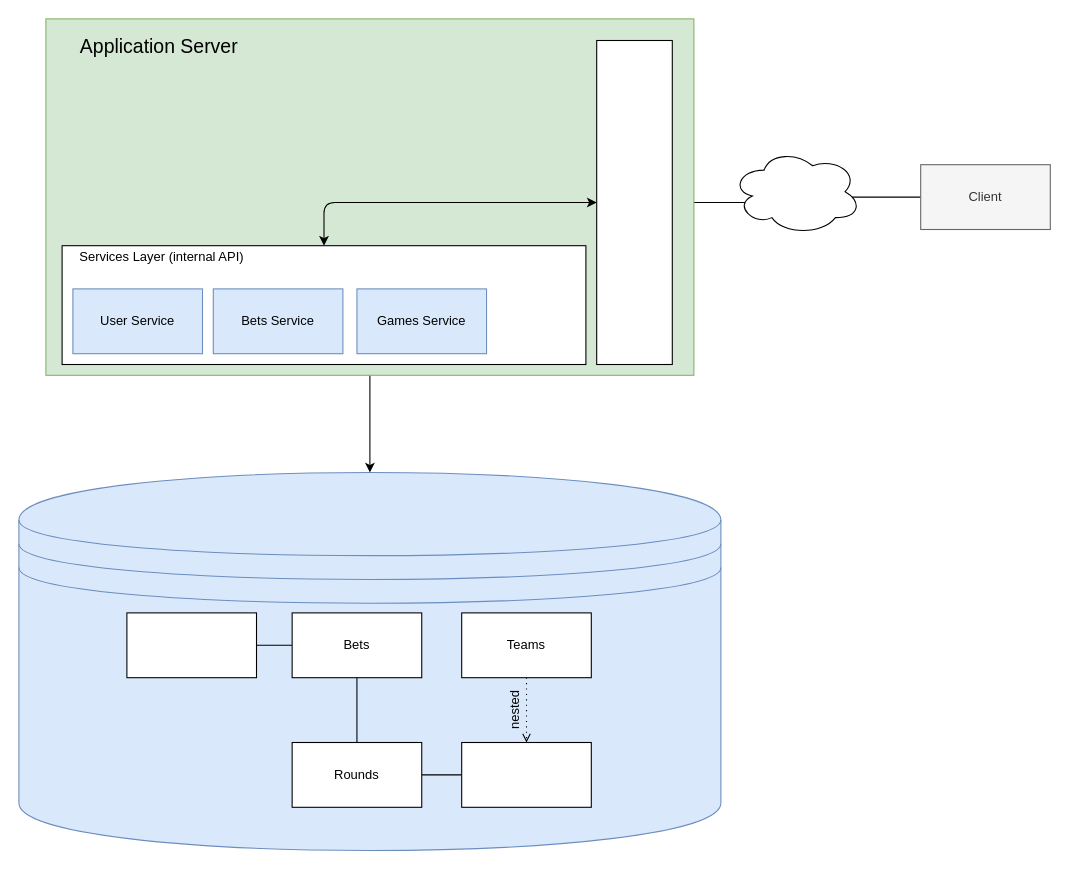
Some shapes in this 1069 by 869 pixel diagram are drawn without their labels. The shapes that lost their labels are listed below. From the top down, each one's centre as x and y in pixels, then its label:
At (634,201): "Routes Layer".
At (191,645): "Users".
At (526,774): "Games".
